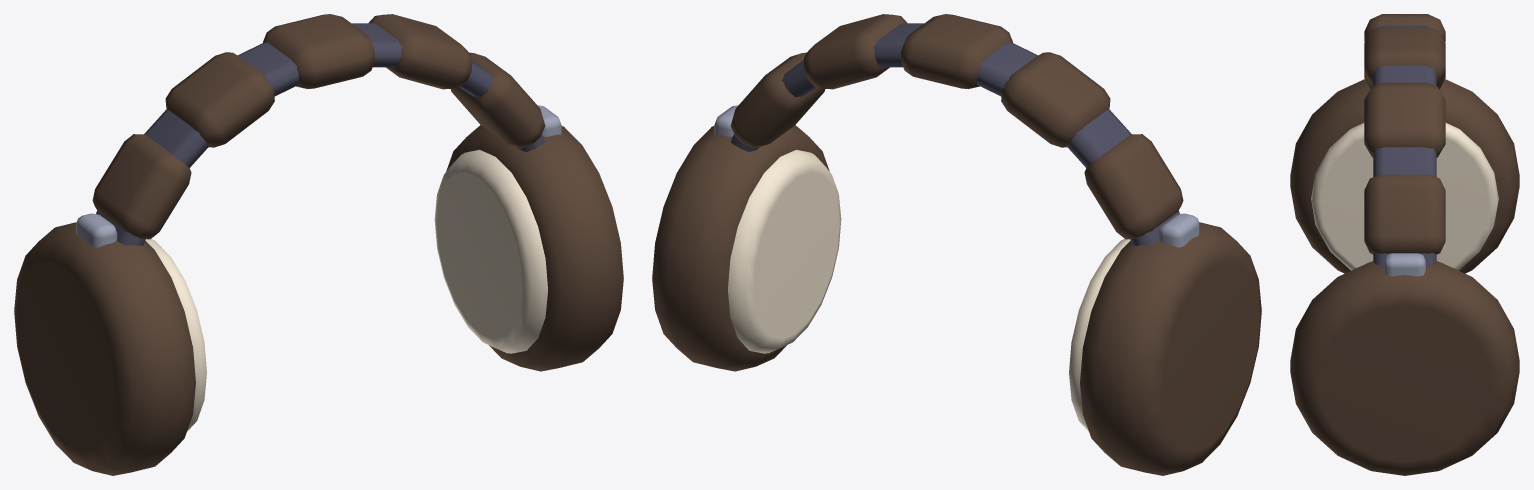
The model's file is acc_headphones.glb.
The picture shows the model from 3 angles, left to right: view 1: azimuth 30°, elevation 25°; view 2: azimuth 150°, elevation 25°; view 3: azimuth 270°, elevation 25°; orthographic projection. The views are drawn at different scales.
Parts seen in each view (by area): view 1: acc_headphones; view 2: acc_headphones; view 3: acc_headphones.
Boxes of the visible parts, left/top/right/bottom form: acc_headphones: left=14, top=14, right=623, bottom=475; acc_headphones: left=652, top=14, right=1261, bottom=475; acc_headphones: left=1290, top=14, right=1519, bottom=475.
Size of the model in its own units: 0.2468 by 0.1778 by 0.1088.
